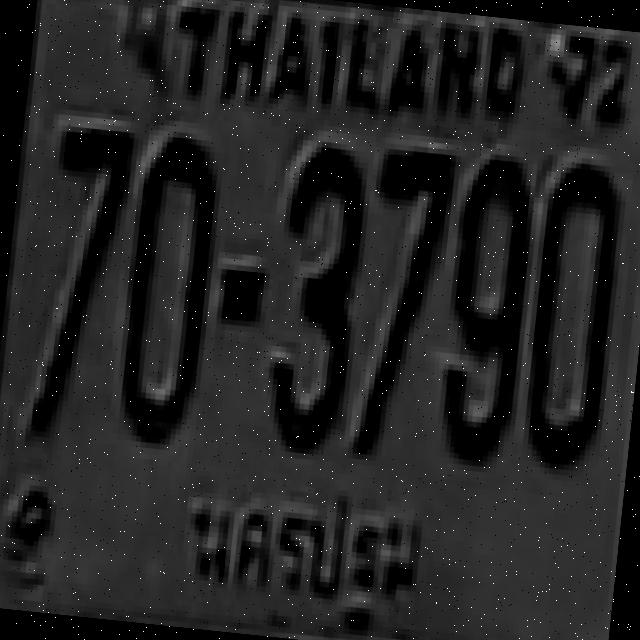0: (446, 151, 533, 343)
7: (41, 119, 135, 290), (365, 142, 454, 318)
9: (430, 218, 530, 461)
NakhonPathom: (168, 464, 451, 640)
